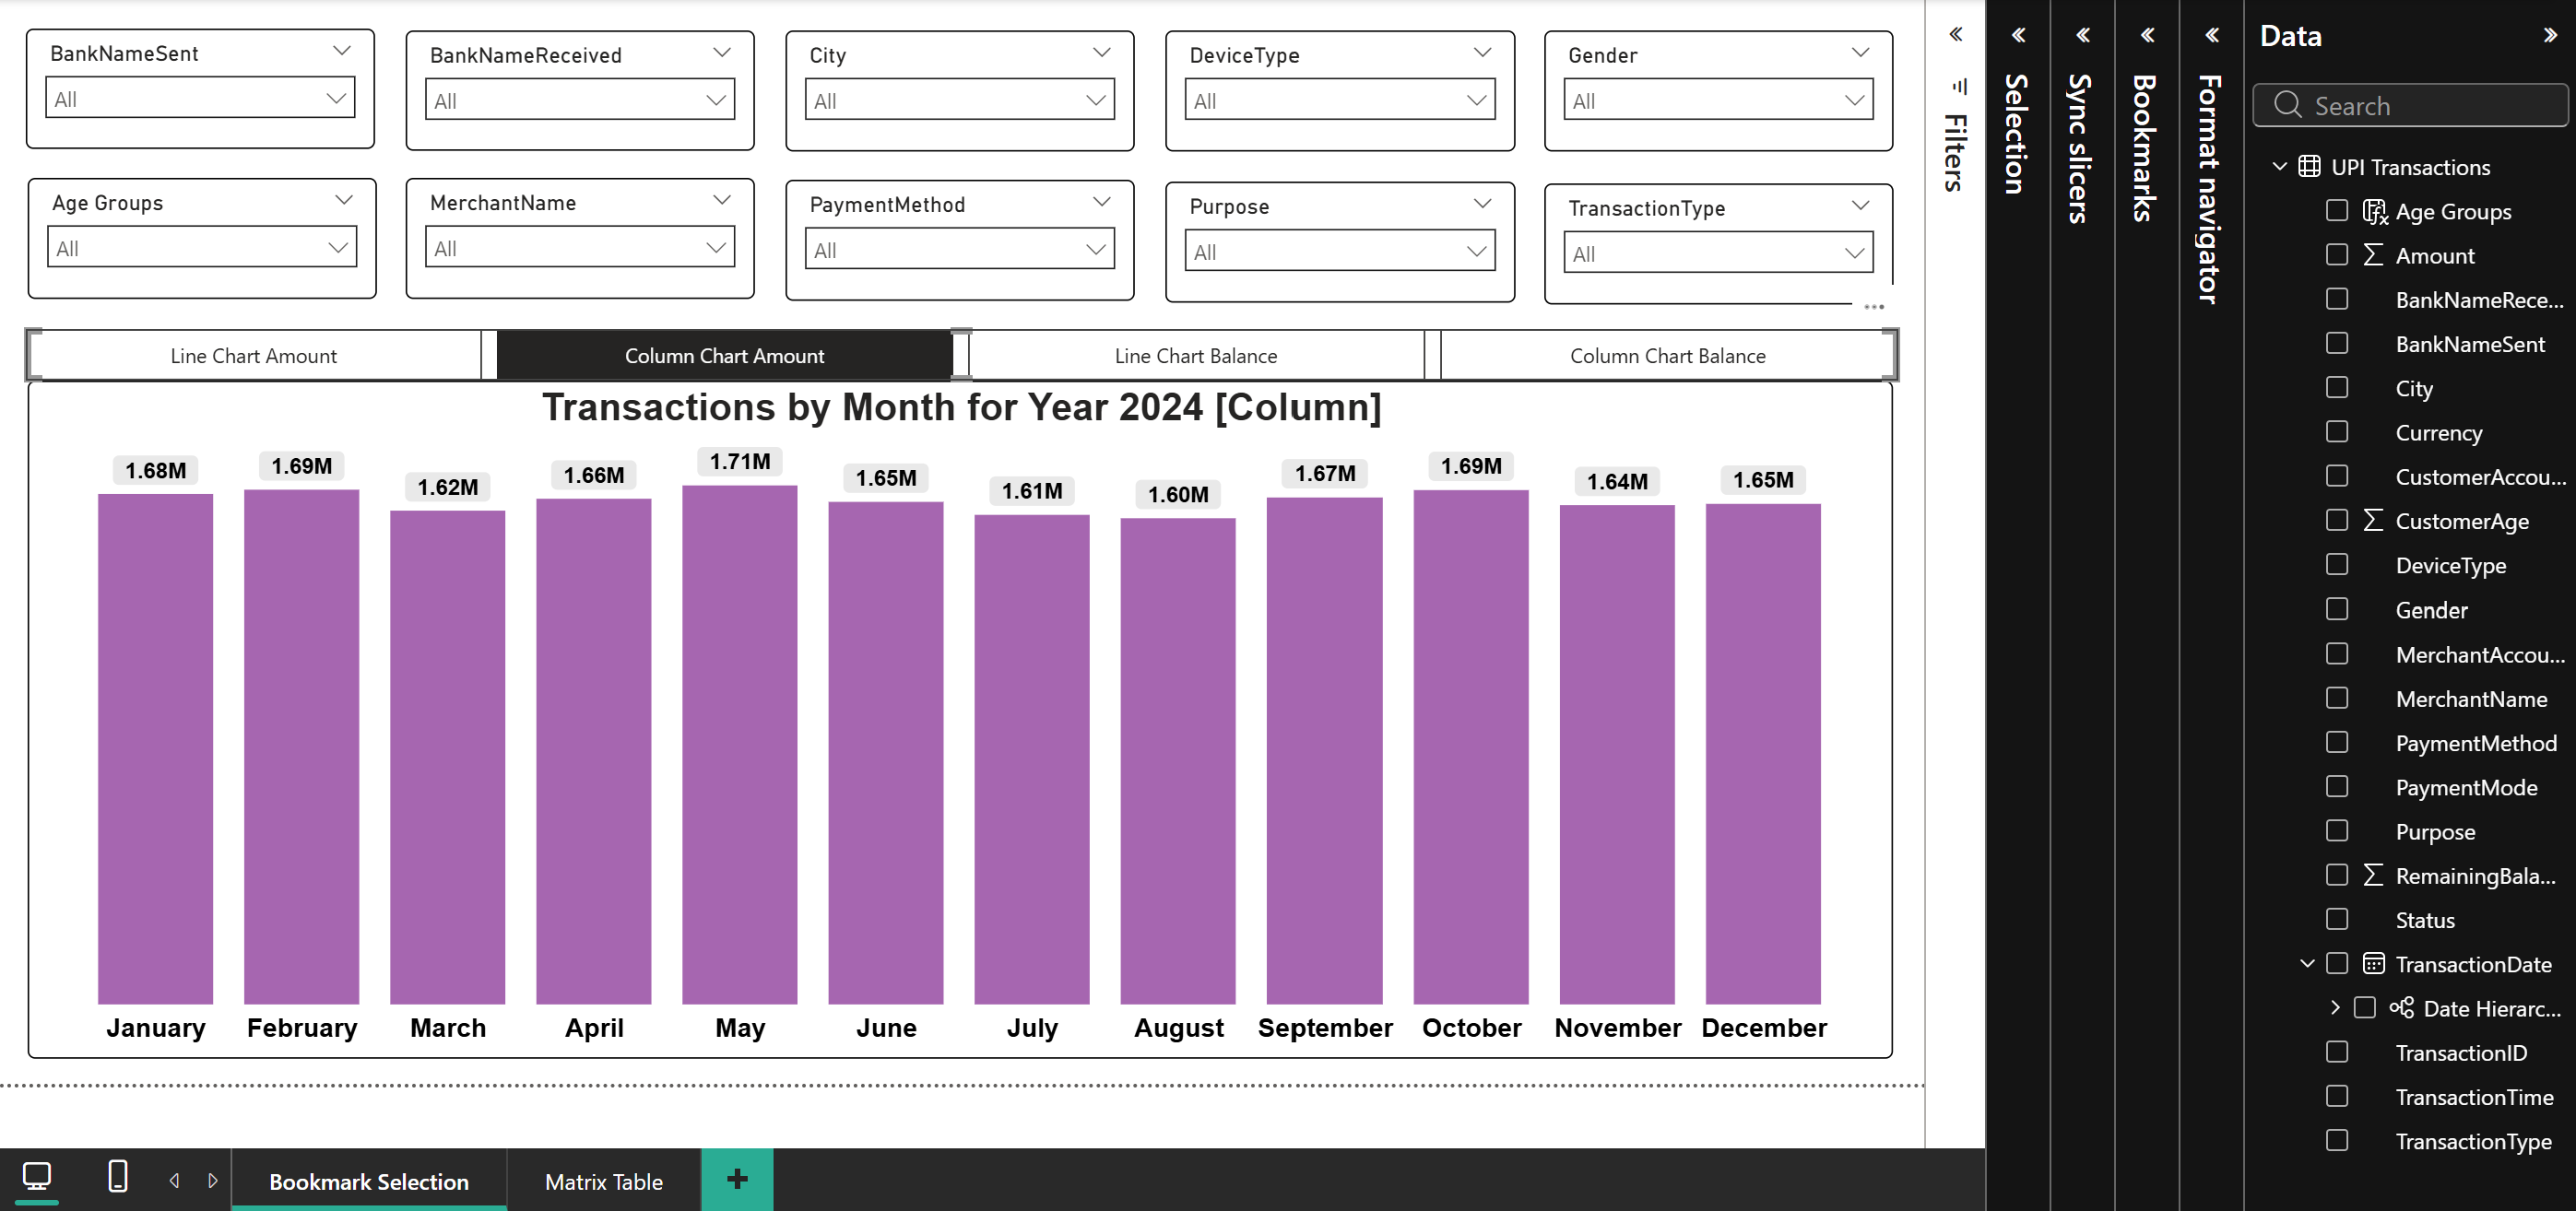

The page's visual inventory and layout, read from the dashboard file:
{"tool":"powerbi","page":{"name":"Bookmark Selection","canvas":[1280,720],"ordinal":0},"visuals":[{"type":"slicer","fields":{"Values":["UPI Transactions.BankNameSent"]},"box":[20,20,232,80],"z":0},{"type":"slicer","fields":{"Values":["UPI Transactions.BankNameReceived"]},"box":[272,20.4,232,80],"z":1000},{"type":"slicer","fields":{"Values":["UPI Transactions.City"]},"box":[524,20.4,232,80.3],"z":2000},{"type":"slicer","fields":{"Values":["UPI Transactions.DeviceType"]},"box":[776,20.4,232,80.3],"z":3000},{"type":"slicer","fields":{"Values":["UPI Transactions.Gender"]},"box":[1028,20.4,232,80.3],"z":4000},{"type":"slicer","fields":{"Values":["UPI Transactions.Age Groups"]},"box":[20.4,118.6,232,80.3],"z":5000},{"type":"slicer","fields":{"Values":["UPI Transactions.MerchantName"]},"box":[271.6,118.6,232,80.3],"z":6000},{"type":"slicer","fields":{"Values":["UPI Transactions.PaymentMethod"]},"box":[524,119.8,232,80.3],"z":7000},{"type":"slicer","fields":{"Values":["UPI Transactions.Purpose"]},"box":[776.4,121.1,232,80.3],"z":8000},{"type":"slicer","fields":{"Values":["UPI Transactions.TransactionType"]},"box":[1027.6,122.4,232,80.3],"z":9000},{"type":"columnChart","title":"Transactions by Month for Year 2024 [Column]","fields":{"Category":["UPI Transactions.TransactionDate.Variation.Date Hierarchy.Month"],"Y":["Sum(UPI Transactions.Amount)"]},"box":[21.4,253.4,1238.7,449.9],"z":11000},{"type":"bookmarkNavigator","box":[19.9,219.3,1243,34.2],"z":14000}]}

Visuals, with their boxes on the page's 1280x720 design canvas (x1, y1, x2, y2). These are canvas units, not pixel positions in the 2576x1211 screenshot, which may show the page scaled, cropped or inside an application window:
slicer - UPI Transactions.BankNameSent: locate(20, 20, 252, 100)
slicer - UPI Transactions.BankNameReceived: locate(272, 20, 504, 100)
slicer - UPI Transactions.City: locate(524, 20, 756, 101)
slicer - UPI Transactions.DeviceType: locate(776, 20, 1008, 101)
slicer - UPI Transactions.Gender: locate(1028, 20, 1260, 101)
slicer - UPI Transactions.Age Groups: locate(20, 119, 252, 199)
slicer - UPI Transactions.MerchantName: locate(272, 119, 504, 199)
slicer - UPI Transactions.PaymentMethod: locate(524, 120, 756, 200)
slicer - UPI Transactions.Purpose: locate(776, 121, 1008, 201)
slicer - UPI Transactions.TransactionType: locate(1028, 122, 1260, 203)
"Transactions by Month for Year 2024 [Column]" columnChart: locate(21, 253, 1260, 703)
bookmarkNavigator: locate(20, 219, 1263, 254)
